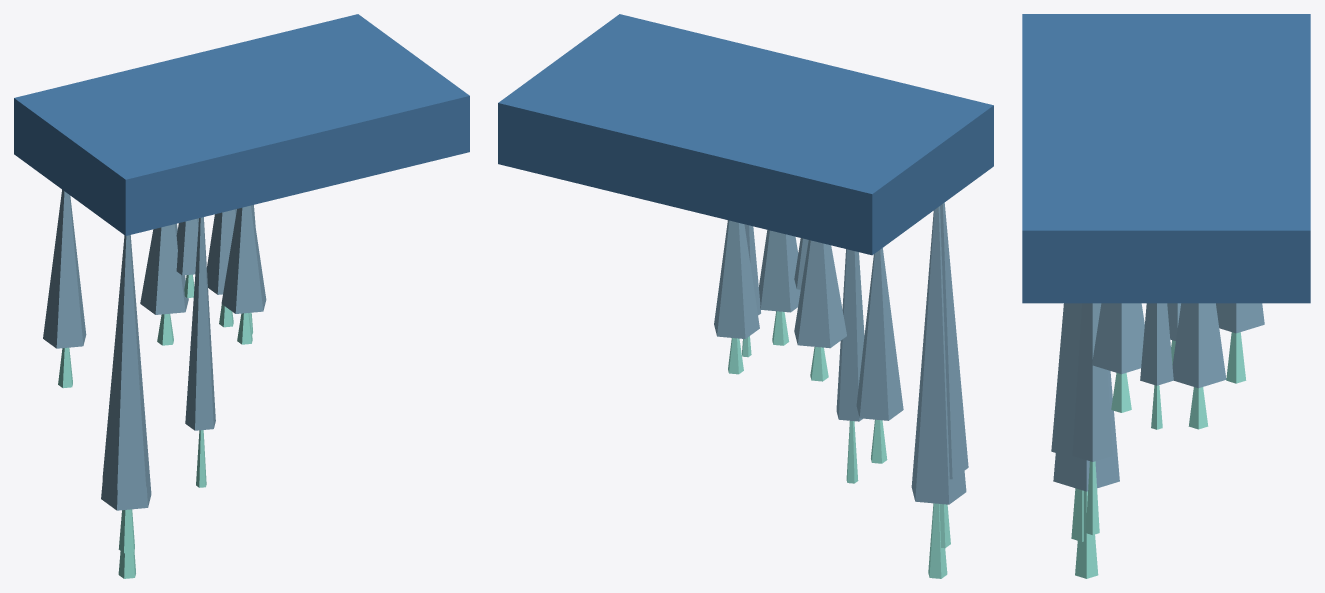
Rendered from icicle_cluster.glb.
3 renders of one model, left to right at view 1: azimuth 30°, elevation 25°; view 2: azimuth 150°, elevation 25°; view 3: azimuth 270°, elevation 25°, orthographic. The views are drawn at different scales.
Visible parts, largest first — view 1: icicle_cluster; view 2: icicle_cluster; view 3: icicle_cluster.
Part boxes in pixels (box(x1,y1,x2,y2)): icicle_cluster: box(14, 14, 469, 578); icicle_cluster: box(498, 14, 993, 578); icicle_cluster: box(1022, 14, 1310, 578).
Size of the model in its own units: 1.6 by 1.87 by 0.9.
